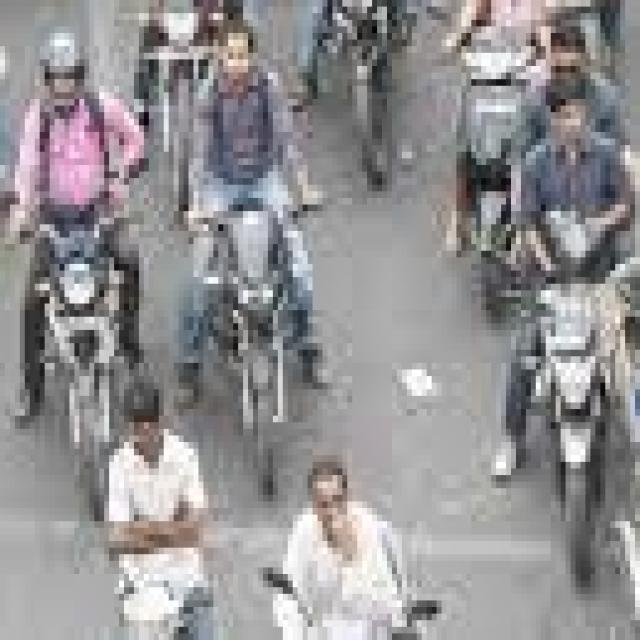bike: (188, 191, 322, 508), (25, 205, 129, 514), (451, 20, 536, 323), (134, 0, 218, 251), (322, 0, 422, 205), (536, 0, 640, 66)
